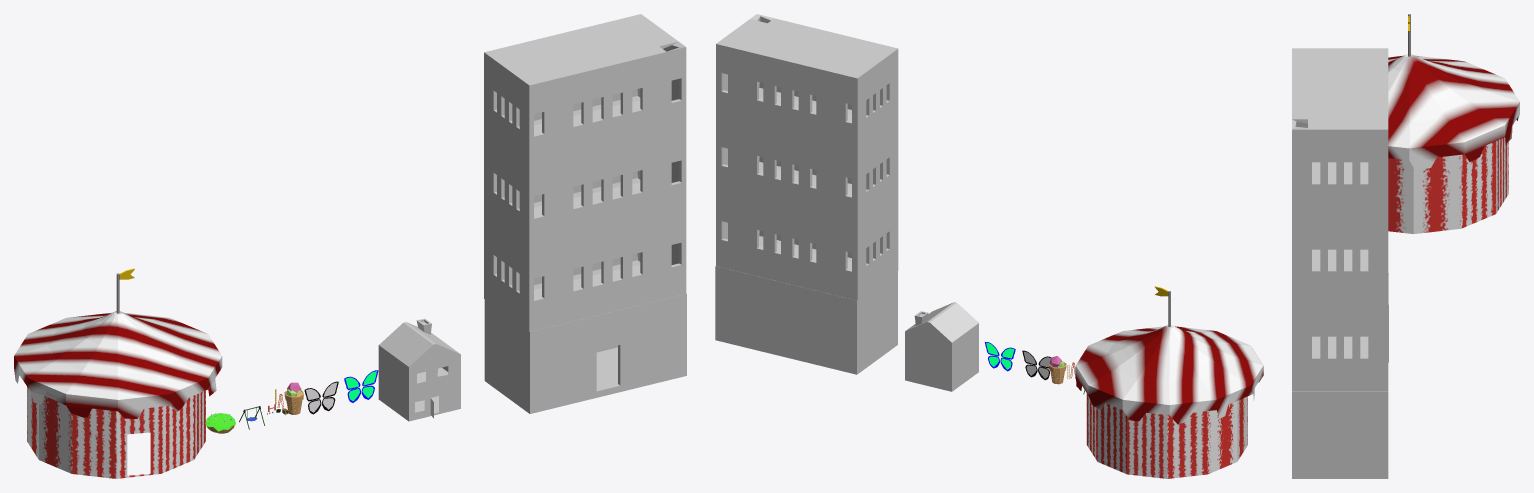
The model's file is props.glb.
The picture shows the model from 3 angles, left to right: view 1: azimuth 30°, elevation 25°; view 2: azimuth 150°, elevation 25°; view 3: azimuth 270°, elevation 25°; orthographic projection. The views are drawn at different scales.
Parts seen in each view (by area): view 1: Building, Circus, House; view 2: Building, Circus, House; view 3: Building, Circus.
Boxes of the visible parts, bbox=[...] form: Building: bbox=[484, 14, 686, 413]; Circus: bbox=[14, 273, 222, 478]; House: bbox=[378, 318, 460, 421]; Building: bbox=[715, 14, 898, 374]; Circus: bbox=[1075, 291, 1263, 478]; House: bbox=[905, 302, 978, 391]; Building: bbox=[1292, 48, 1388, 478]; Circus: bbox=[1388, 14, 1519, 233].
Size of the model in its own units: 77.88 by 40.53 by 23.98.
Materials: 33 (2 with a texture image).
